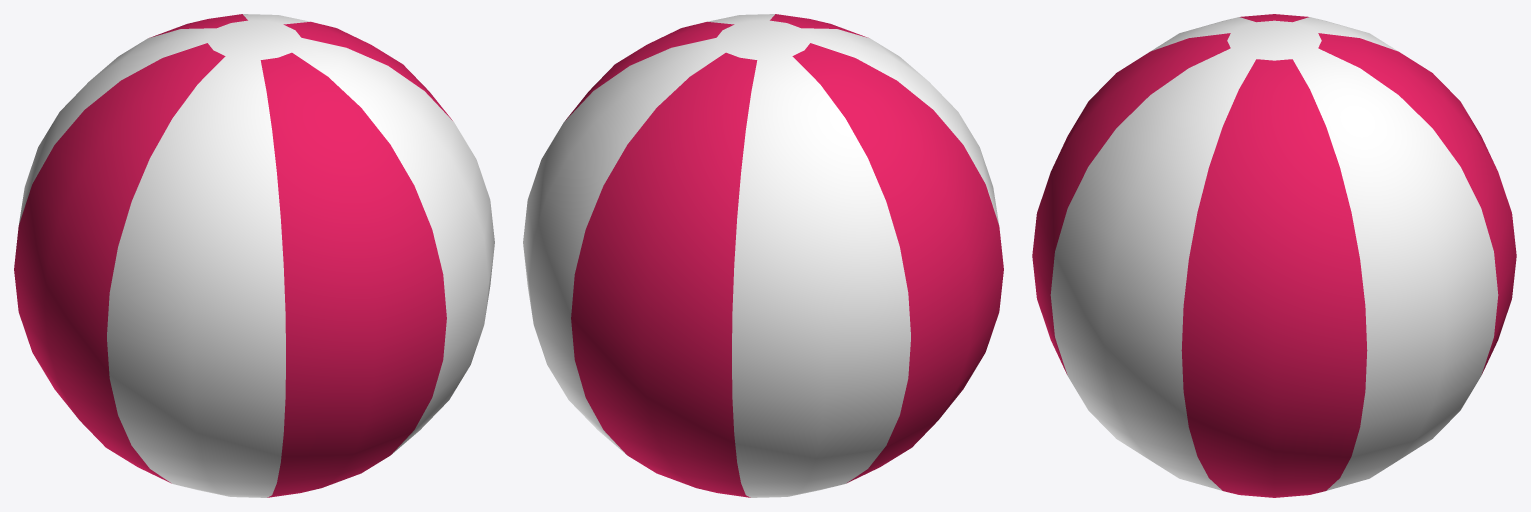
Rendered from Ball_1.fbx.
The picture shows the model from 3 angles, left to right: view 1: azimuth 30°, elevation 25°; view 2: azimuth 150°, elevation 25°; view 3: azimuth 270°, elevation 25°; orthographic projection.
Parts seen in each view (by area): view 1: Ball_1; view 2: Ball_1; view 3: Ball_1.
Boxes of the visible parts, x1,y1,x2,y2 form: Ball_1: (14, 14, 494, 497); Ball_1: (523, 14, 1003, 497); Ball_1: (1032, 14, 1516, 497).
Bounding box in the file's own units: 23.86 × 23.4 × 23.86.
Materials: 1 (1 with a texture image).
